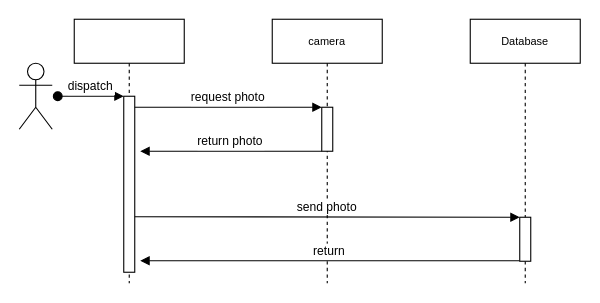
This 600x303 diagram has some shape labels left out. Each missing label, with the box of its shape:
Raspberry PI: (73, 18, 184, 283)
timer: (18, 62, 52, 129)
